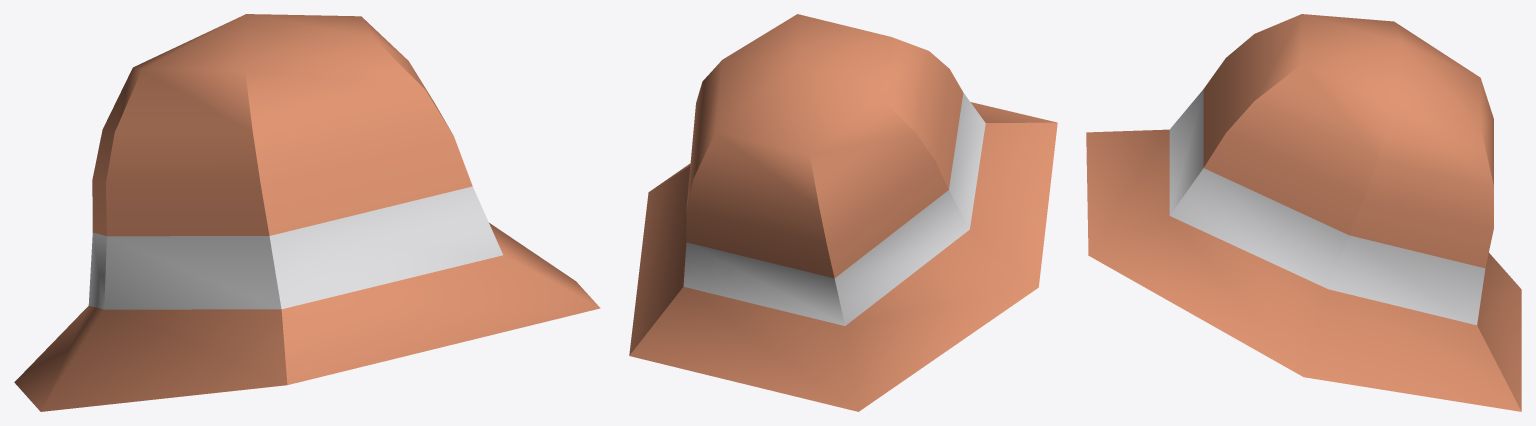
Rendered from Female Hat.fbx.
The picture shows the model from 3 angles, left to right: view 1: azimuth 30°, elevation 25°; view 2: azimuth 150°, elevation 25°; view 3: azimuth 270°, elevation 25°; orthographic projection. The views are drawn at different scales.
Parts seen in each view (by area): view 1: v4; view 2: v4; view 3: v4.
Part boxes in pixels (left/top/right/bottom): v4: left=14, top=14, right=600, bottom=411; v4: left=629, top=14, right=1057, bottom=411; v4: left=1086, top=14, right=1521, bottom=411.
Size of the model in its own units: 132 by 92.21 by 117.
